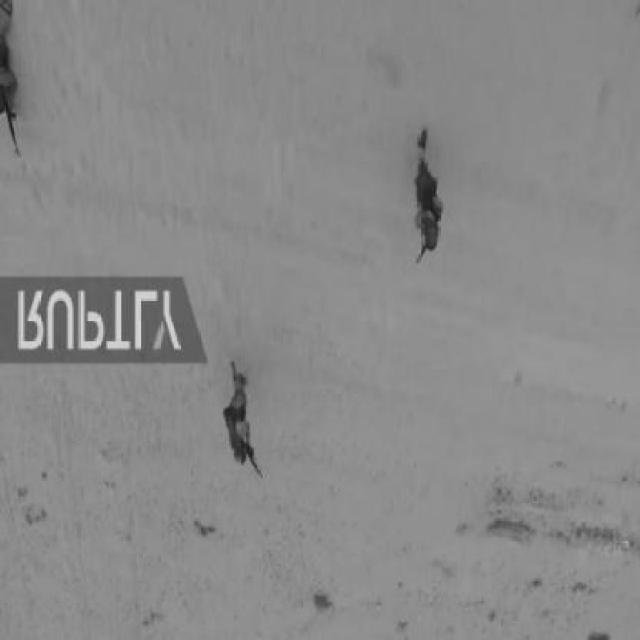Person: (406, 129, 444, 268), (223, 365, 257, 465), (1, 1, 19, 146)
